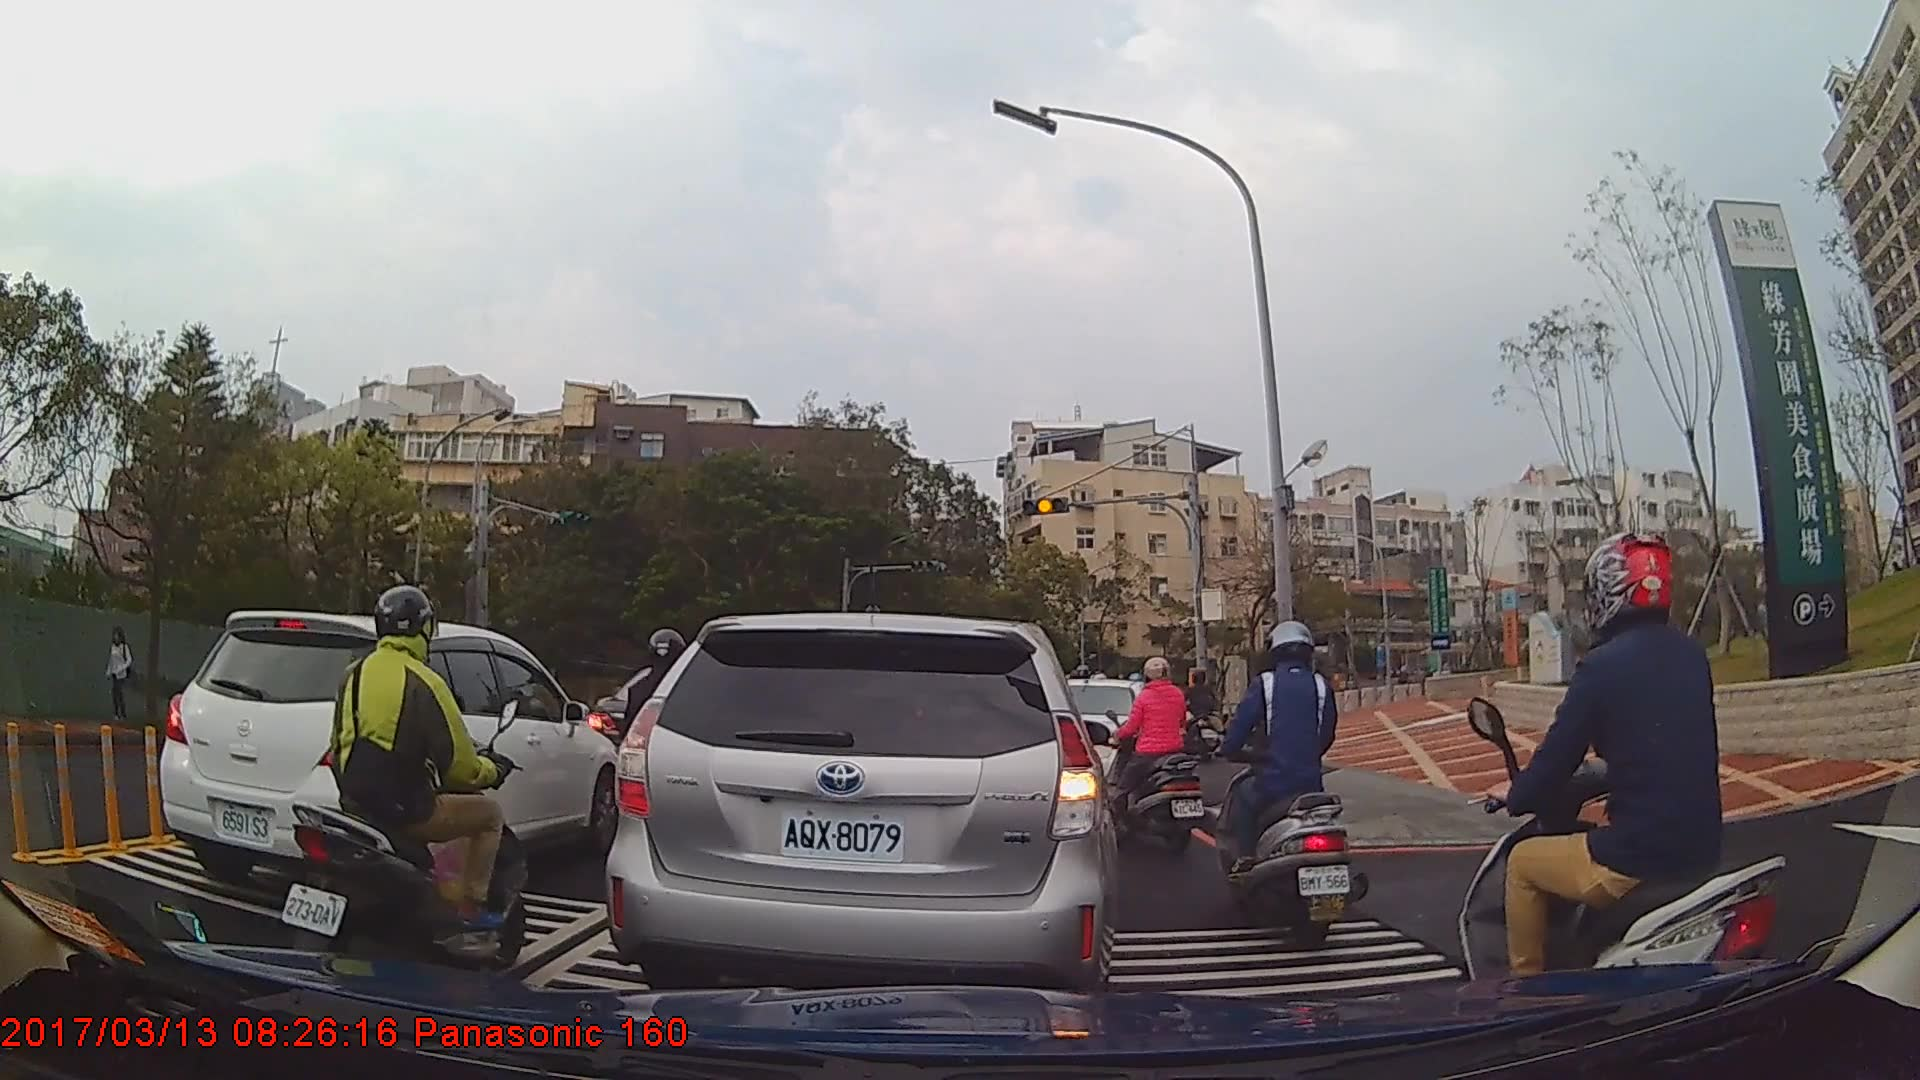pedestrian: (105, 629, 135, 723)
rider: (1460, 524, 1790, 1054), (287, 584, 536, 992), (1217, 615, 1360, 954), (1096, 653, 1204, 862), (1178, 667, 1225, 760)
vehicle: (605, 611, 1119, 1003), (157, 608, 625, 918)
